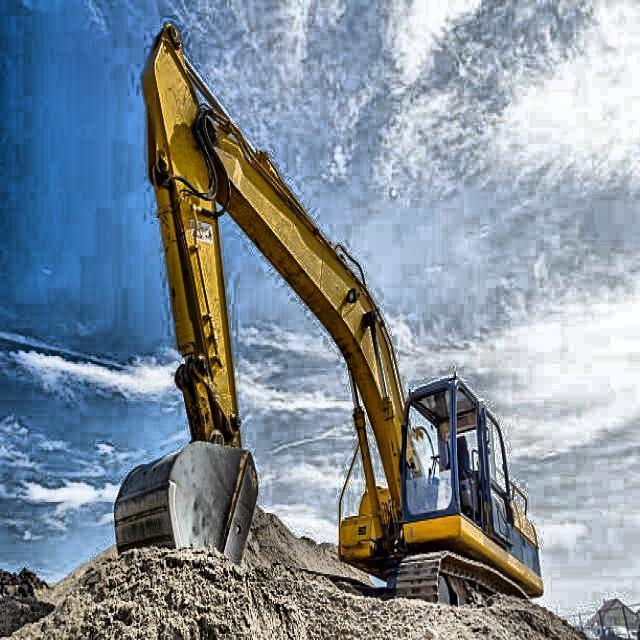excavator: (113, 19, 550, 611)
